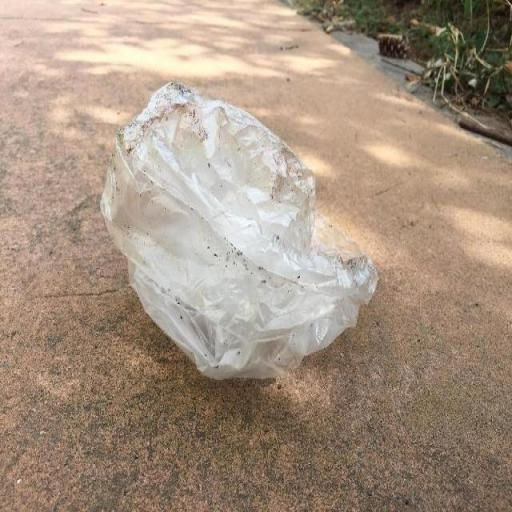plastic-bag: (98, 80, 384, 377)
